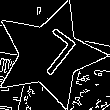L_SW: (21, 25, 78, 84)
